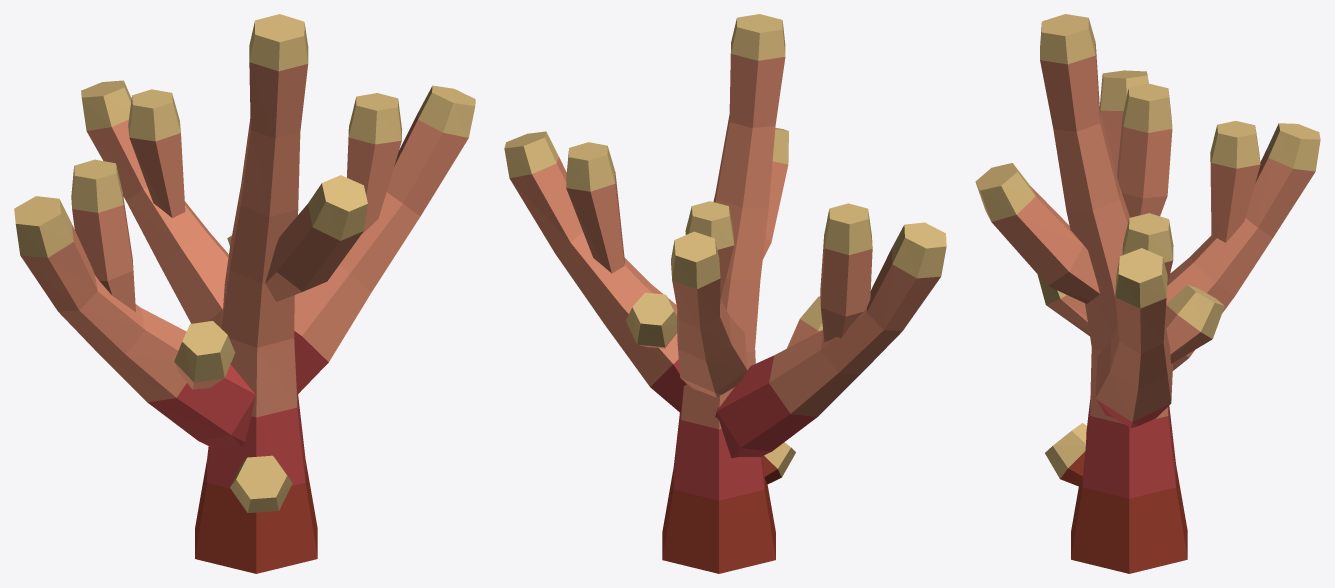
Rendered from staghorn-coral-422d23.glb.
3 renders of one model, left to right at view 1: azimuth 30°, elevation 25°; view 2: azimuth 150°, elevation 25°; view 3: azimuth 270°, elevation 25°, orthographic. The views are drawn at different scales.
Parts seen in each view (by area): view 1: staghorn-coral-shell; view 2: staghorn-coral-shell; view 3: staghorn-coral-shell.
Boxes of the visible parts, x1=… form: staghorn-coral-shell: x1=14, y1=14, x2=475, y2=573; staghorn-coral-shell: x1=504, y1=14, x2=946, y2=573; staghorn-coral-shell: x1=975, y1=14, x2=1320, y2=573.
Size of the model in its own units: 1.27 by 1.41 by 0.8523.
